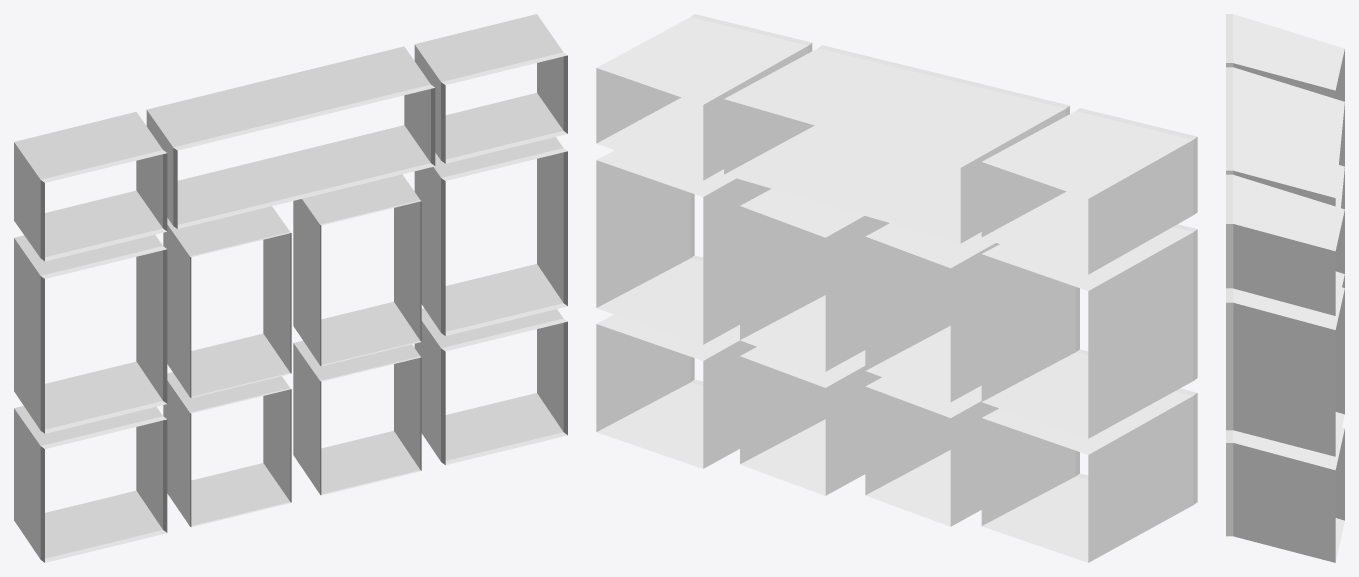
The model's file is set_add_effect_l_door_a.fbx.
3 views of the same model, side by side, from view 1: azimuth 30°, elevation 25°; view 2: azimuth 150°, elevation 25°; view 3: azimuth 270°, elevation 25° (orthographic). The views are drawn at different scales.
Parts seen in each view (by area): view 1: door_a_window_add_effect_l, door_a_02_add_effect_l, door_a_01_add_effect_l; view 2: door_a_window_add_effect_l, door_a_02_add_effect_l, door_a_01_add_effect_l; view 3: door_a_window_add_effect_l.
Boxes of the visible parts, <box> form: door_a_window_add_effect_l: <box>14,14,567,562</box>; door_a_02_add_effect_l: <box>293,174,421,495</box>; door_a_01_add_effect_l: <box>163,206,291,527</box>; door_a_window_add_effect_l: <box>596,14,1197,562</box>; door_a_02_add_effect_l: <box>740,189,889,495</box>; door_a_01_add_effect_l: <box>865,223,999,526</box>; door_a_window_add_effect_l: <box>1226,14,1344,562</box>.
Bounding box in the file's own units: 413 × 283 × 92.49.
